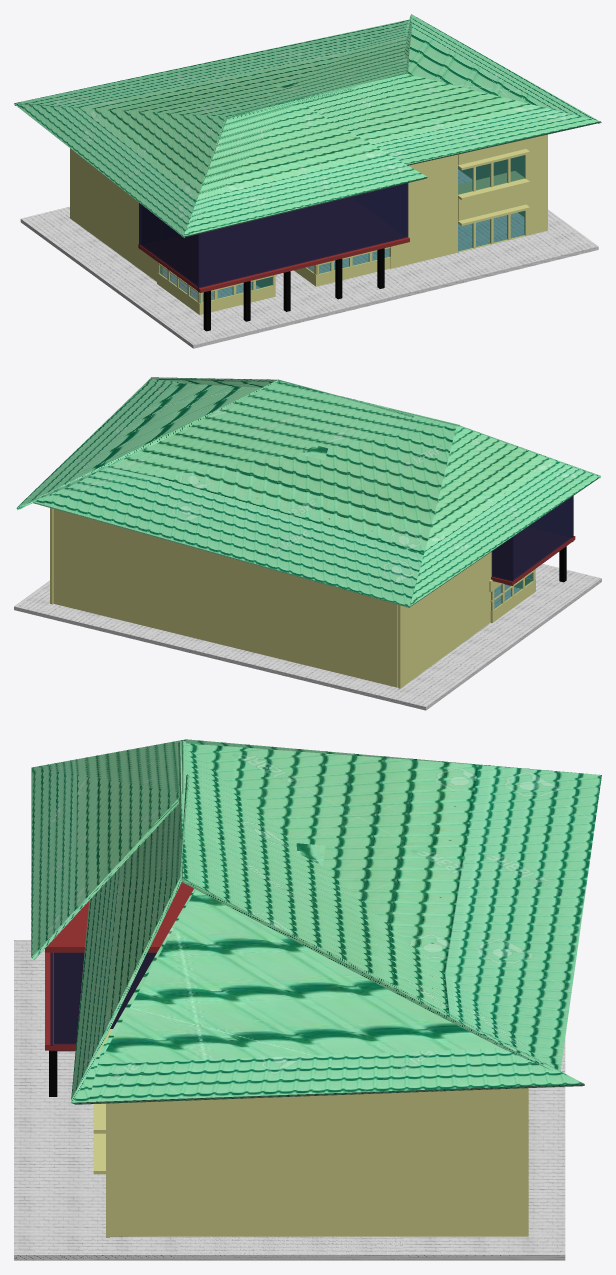
Rendered from geomatics.fbx.
The picture shows the model from 3 angles, top to bottom: view 1: azimuth 30°, elevation 25°; view 2: azimuth 150°, elevation 25°; view 3: azimuth 270°, elevation 25°; orthographic projection. The views are drawn at different scales.
Parts seen in each view (by area): view 1: pCube60, pCube63, pCube65, pCube66, pCube64, pCube59, pCube67, pCube58, pCube37, pCube20, pCube41, pCube71 (+15 smaller); view 2: pCube65, pCube61, pCube64, pCube71, pCube67, pCube58, pCube60, pCube41, pCube66, pCube40, pCube3, pCube38; view 3: pCube65, pCube57, pCube67, pCube60, pCube63, pCube66, pCube71, pCube42, pCube39, pCube38, pCube64.
Boxes of the visible parts, left/top/right/bottom form: pCube60: left=71, top=169, right=598, bottom=348; pCube63: left=182, top=100, right=427, bottom=237; pCube65: left=14, top=19, right=411, bottom=119; pCube66: left=269, top=73, right=600, bottom=165; pCube64: left=15, top=104, right=227, bottom=237; pCube59: left=197, top=183, right=408, bottom=292; pCube67: left=404, top=14, right=601, bottom=123; pCube58: left=70, top=148, right=162, bottom=281; pCube37: left=408, top=154, right=457, bottom=221; pCube20: left=390, top=210, right=457, bottom=268; pCube41: left=140, top=204, right=197, bottom=287; pCube71: left=20, top=206, right=157, bottom=309; pCube65: left=33, top=381, right=459, bottom=607; pCube61: left=53, top=509, right=397, bottom=687; pCube64: left=410, top=426, right=599, bottom=606; pCube71: left=14, top=580, right=505, bottom=710; pCube67: left=16, top=378, right=278, bottom=510; pCube58: left=398, top=551, right=491, bottom=688; pCube60: left=440, top=564, right=601, bottom=671; pCube41: left=513, top=497, right=571, bottom=582; pCube66: left=150, top=377, right=413, bottom=417; pCube40: left=491, top=537, right=513, bottom=585; pCube3: left=490, top=579, right=535, bottom=622; pCube38: left=491, top=536, right=575, bottom=585; pCube65: left=178, top=741, right=601, bottom=1070; pCube57: left=110, top=1088, right=528, bottom=1236; pCube67: left=70, top=879, right=584, bottom=1104; pCube60: left=14, top=940, right=403, bottom=1260; pCube63: left=31, top=740, right=183, bottom=960; pCube66: left=71, top=774, right=189, bottom=1101; pCube71: left=176, top=1039, right=565, bottom=1260; pCube42: left=54, top=952, right=156, bottom=1051; pCube39: left=45, top=882, right=193, bottom=952; pCube38: left=45, top=952, right=76, bottom=1050; pCube64: left=183, top=739, right=599, bottom=774.
Bounding box in the file's own units: 95.31 × 36.67 × 70.66.
7 materials, 2 textured.
